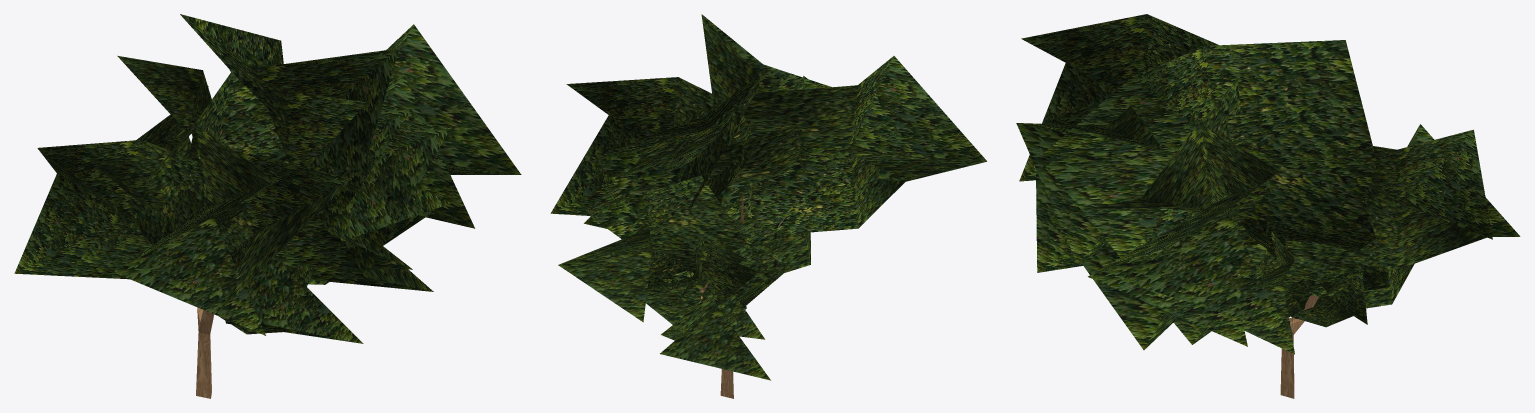
Rendered from Arbol_1.obj.
The picture shows the model from 3 angles, left to right: view 1: azimuth 30°, elevation 25°; view 2: azimuth 150°, elevation 25°; view 3: azimuth 270°, elevation 25°; orthographic projection. The views are drawn at different scales.
Parts seen in each view (by area): view 1: Arbol3; view 2: Arbol3; view 3: Arbol3.
Boxes of the visible parts, box(x1,y1,x2,y2) form: Arbol3: box(14, 14, 521, 398); Arbol3: box(550, 14, 986, 398); Arbol3: box(1016, 14, 1520, 398).
Bounding box in the file's own units: 20.46 × 17.08 × 20.92.
2 materials, 2 textured.
